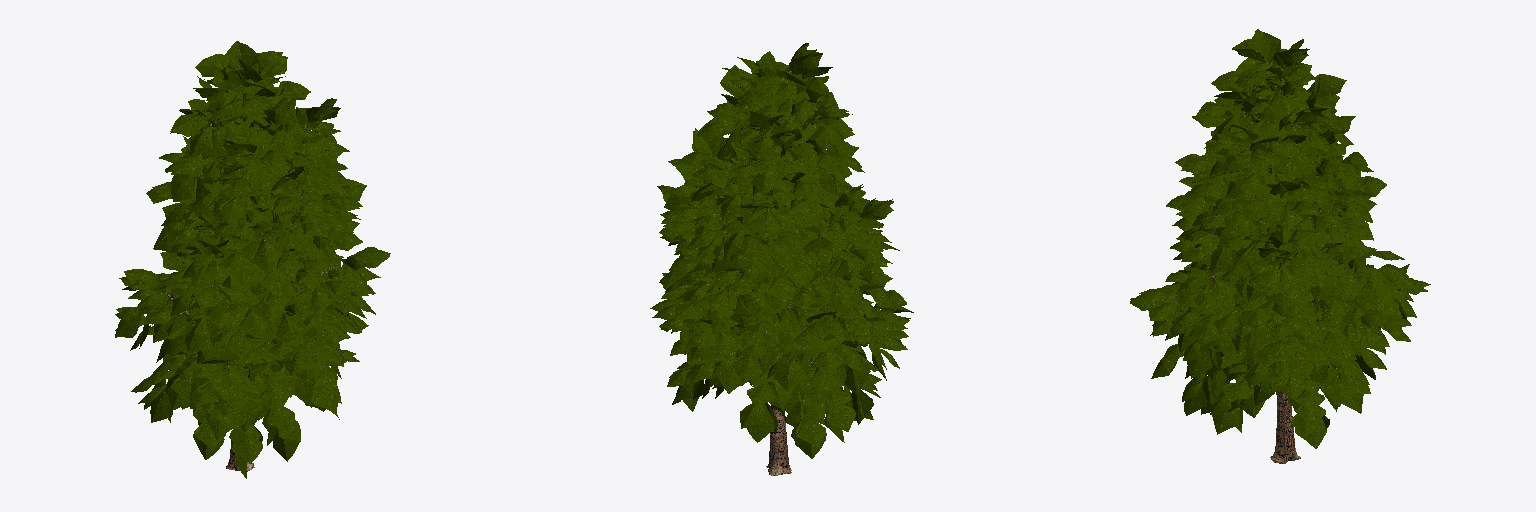
The picture shows the model from 3 angles: view 1: azimuth 30°, elevation 25°; view 2: azimuth 150°, elevation 25°; view 3: azimuth 270°, elevation 25°; orthographic projection.
Visible parts, largest first — view 1: g2; view 2: g2, g1; view 3: g2, g1.
Boxes of the visible parts, <box> form: g2: <box>115,41,390,478</box>; g2: <box>650,43,913,458</box>; g1: <box>714,71,871,475</box>; g2: <box>1130,29,1430,448</box>; g1: <box>1178,87,1316,463</box>.
Size of the model in its own units: 22.09 by 39.5 by 25.97.
Materials: 2 (2 with a texture image).